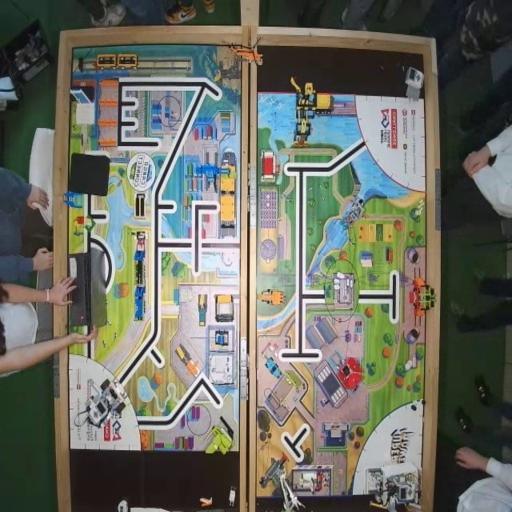lego_robot: (75, 377, 127, 433), (364, 463, 420, 512)
